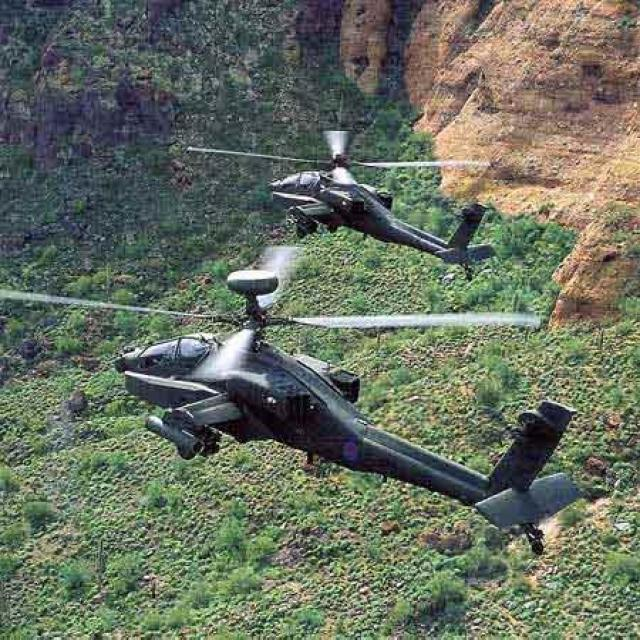MIL_HELO: (6, 231, 633, 563), (166, 115, 517, 261)
